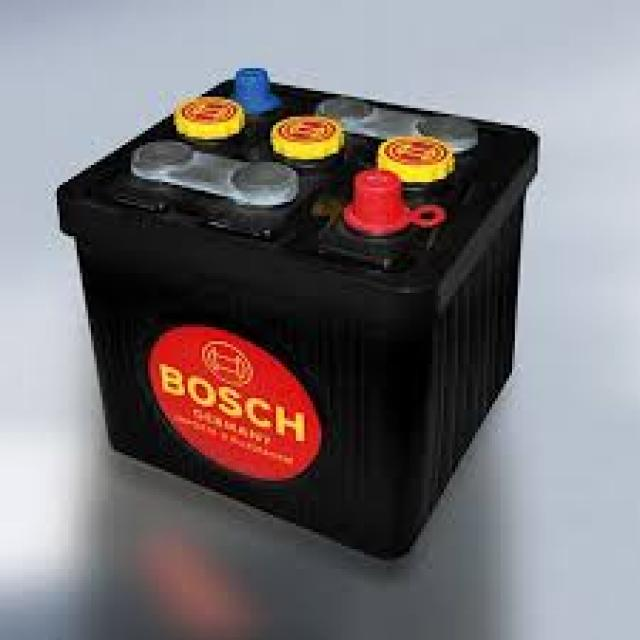non-organic waste: (56, 61, 535, 562)
